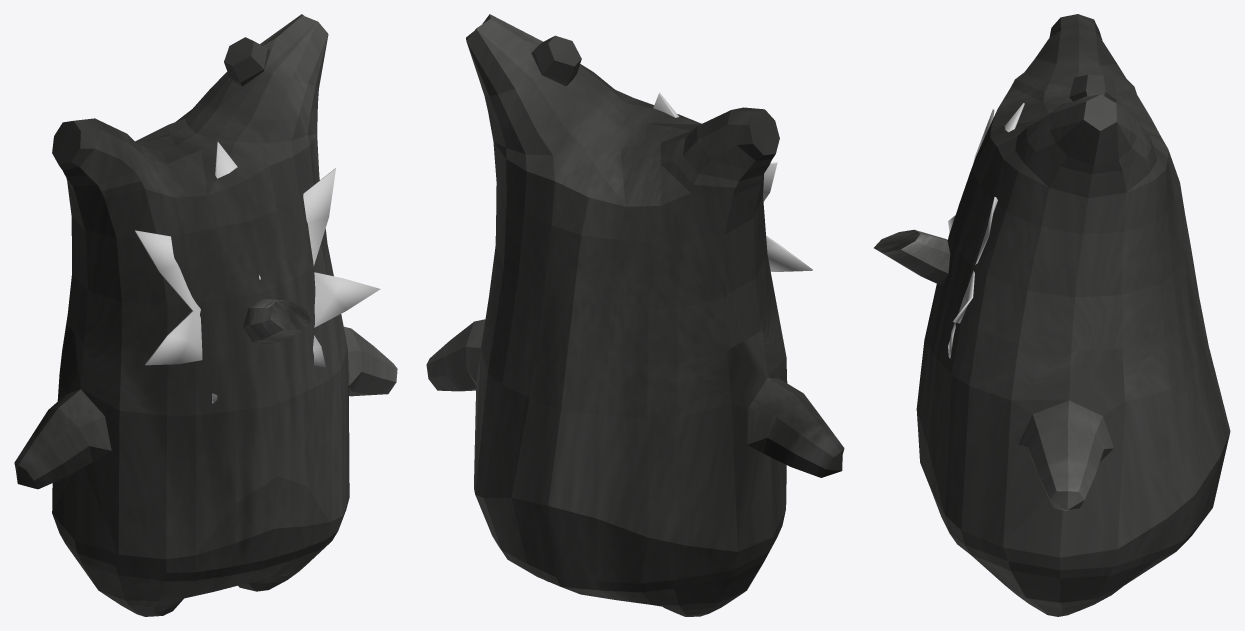
Rendered from frame_0005.obj.
3 renders of one model, left to right at view 1: azimuth 30°, elevation 25°; view 2: azimuth 150°, elevation 25°; view 3: azimuth 270°, elevation 25°, orthographic. The views are drawn at different scales.
Parts seen in each view (by area): view 1: korok, leaf.003_柱体.013, nose.003_柱体.011; view 2: korok, leaf.003_柱体.013; view 3: korok, nose.003_柱体.011, leaf.003_柱体.013.
Boxes of the visible parts, left/top/right/bottom form: korok: left=14, top=14, right=397, bottom=616; leaf.003_柱体.013: left=135, top=142, right=380, bottom=403; nose.003_柱体.011: left=243, top=298, right=311, bottom=344; korok: left=426, top=14, right=844, bottom=616; leaf.003_柱体.013: left=653, top=92, right=812, bottom=271; korok: left=916, top=14, right=1230, bottom=616; nose.003_柱体.011: left=874, top=229, right=950, bottom=285; leaf.003_柱体.013: left=948, top=103, right=1024, bottom=358.
Bounding box in the file's own units: 1.68 × 2.26 × 1.33.
